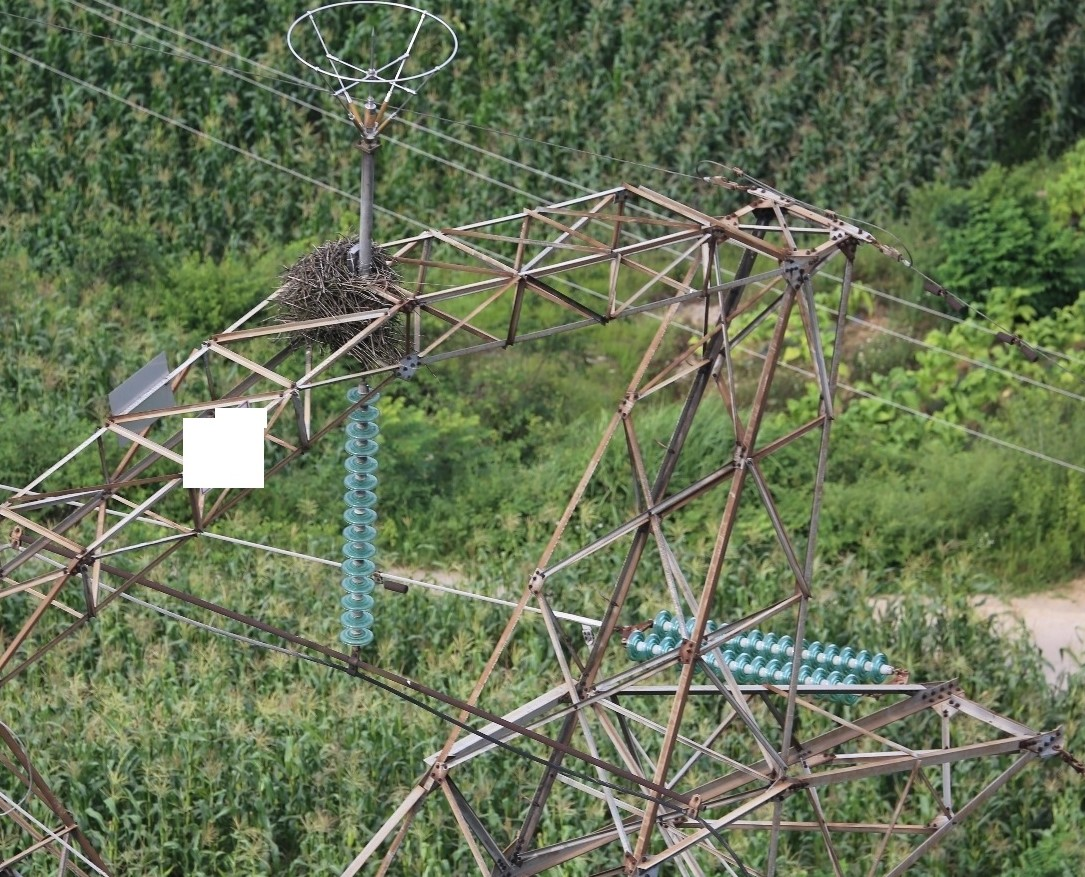niaowo: (265, 233, 418, 367)
